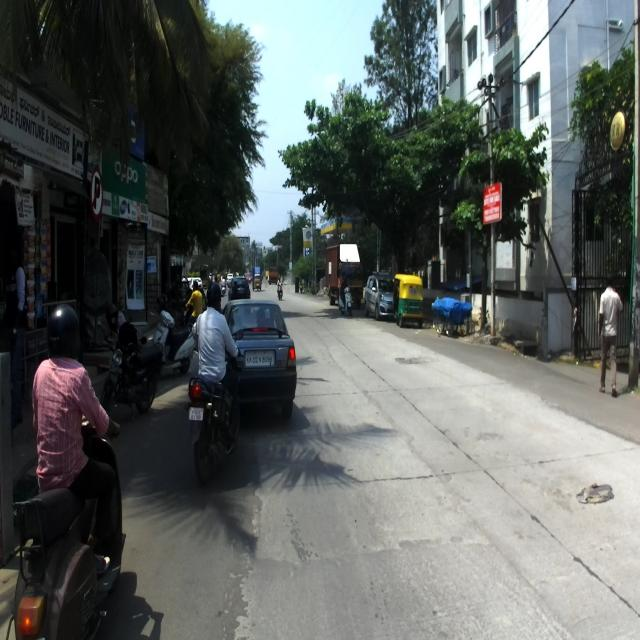Car: (326, 243, 362, 306)
Car_Maruti-Suzuki: (219, 297, 298, 421), (363, 274, 394, 318)
autorickshaw: (392, 272, 424, 327)
motorcycle: (99, 301, 164, 418)
motorcycle_Hero: (187, 328, 244, 488)
scooter: (6, 410, 127, 638), (152, 295, 195, 375), (337, 283, 355, 315)
